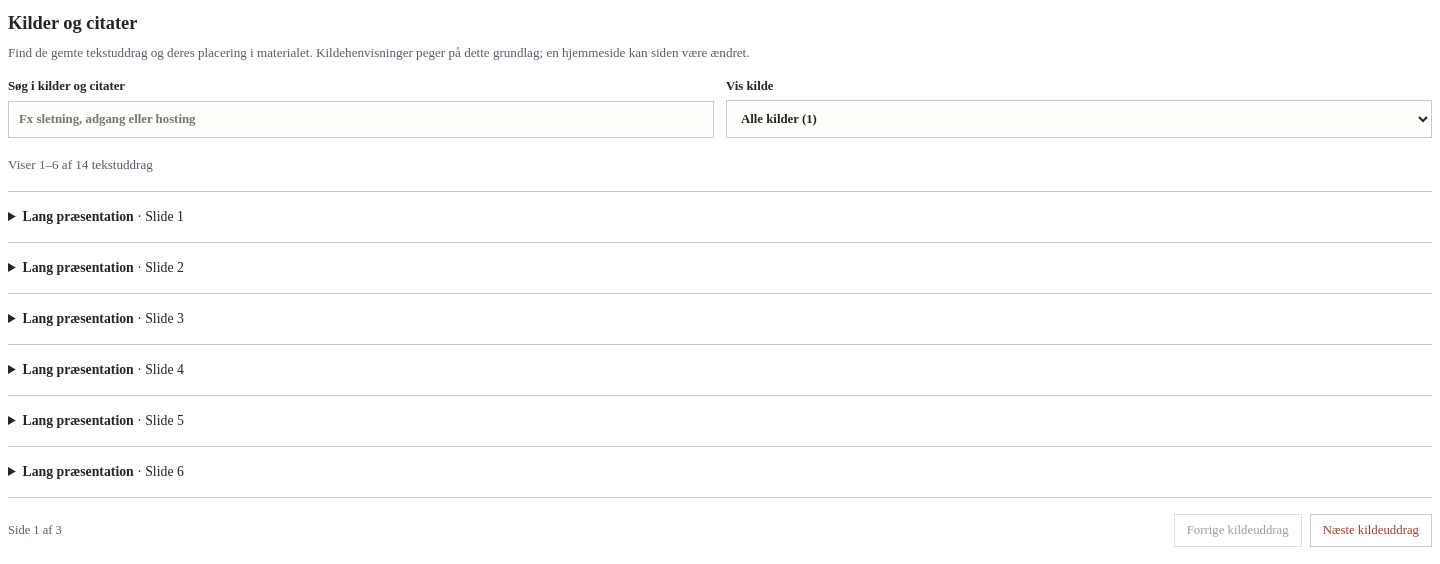
Test case: holder lange kildesamlinger læsbare med pagination uden at miste uddrag
Expected: the number of list items is 6, [8,192,1432,243]; [8,243,1432,294]; [8,294,1432,345]; [8,345,1432,396]; [8,396,1432,447]; [8,447,1432,498]
Expected: the button "Forrige kildeuddrag" is disabled, [1174,514,1302,547]
Click the button "Næste kildeuddrag" at (1371, 531), box [1310,514,1432,547]
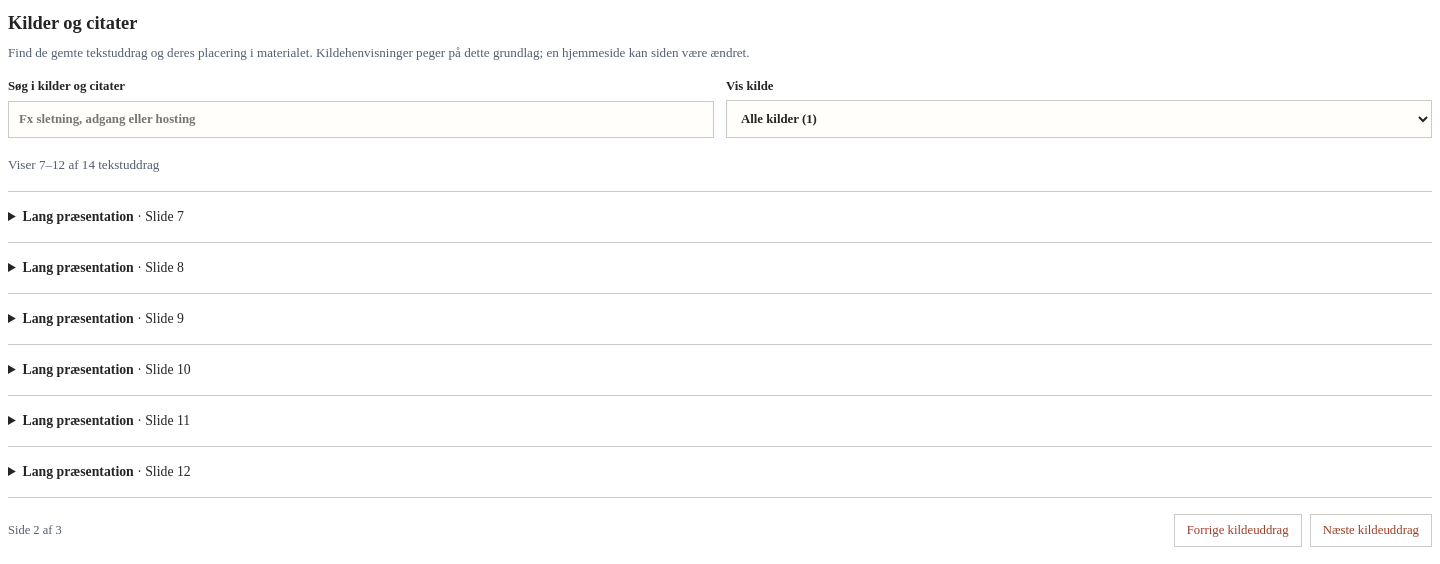
Result: the text "Viser 7–12 af 14 tekstuddrag" is shown at [8,157,159,172]
Click the button "Næste kildeuddrag" at (1371, 531), box [1310,514,1432,547]
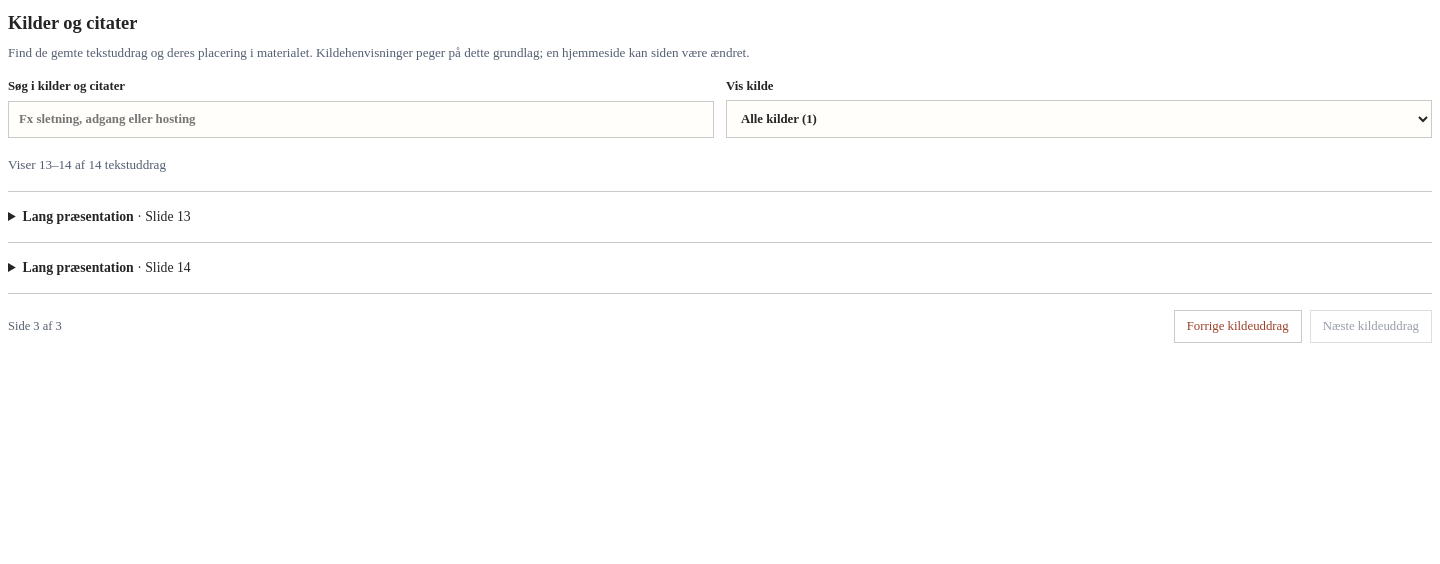
Result: the number of list items is 2 at [8,192,1432,243]; [8,243,1432,294]
Result: the button "Næste kildeuddrag" is disabled at [1310,310,1432,343]
Type "slide 14." into the search field labelled "Søg i kilder og citater" at (361, 119), box [8,100,714,138]
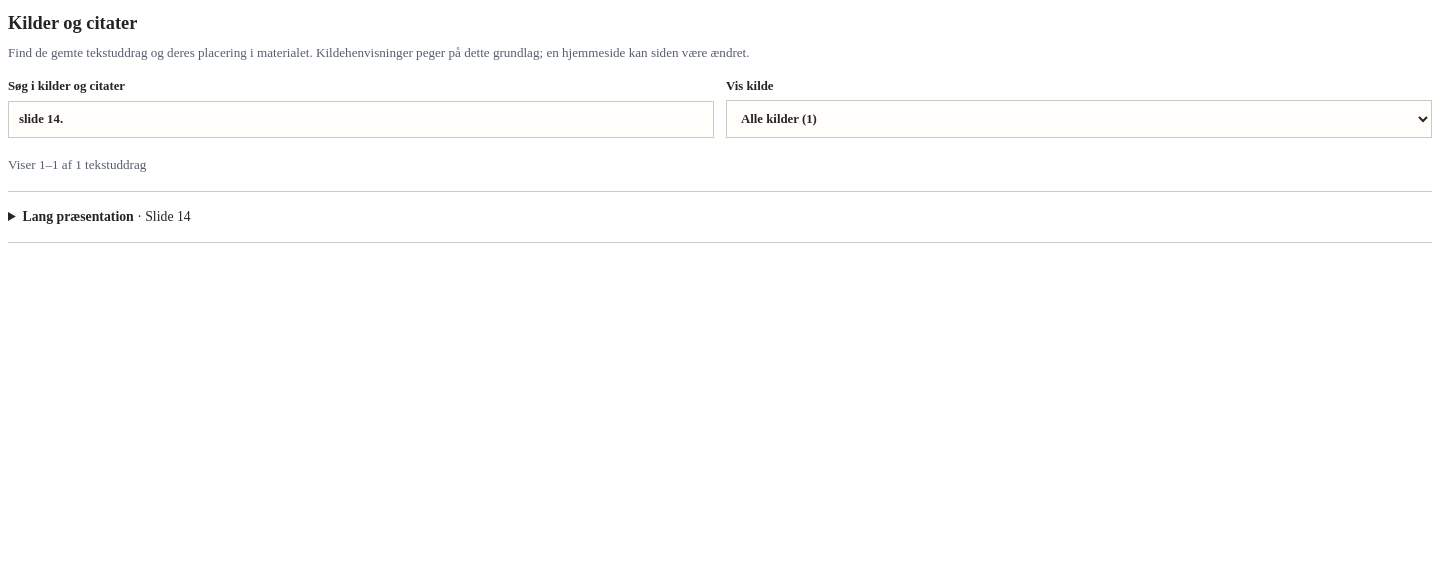
Result: the text "Viser 1–1 af 1 tekstuddrag" is shown at [8,157,146,172]
